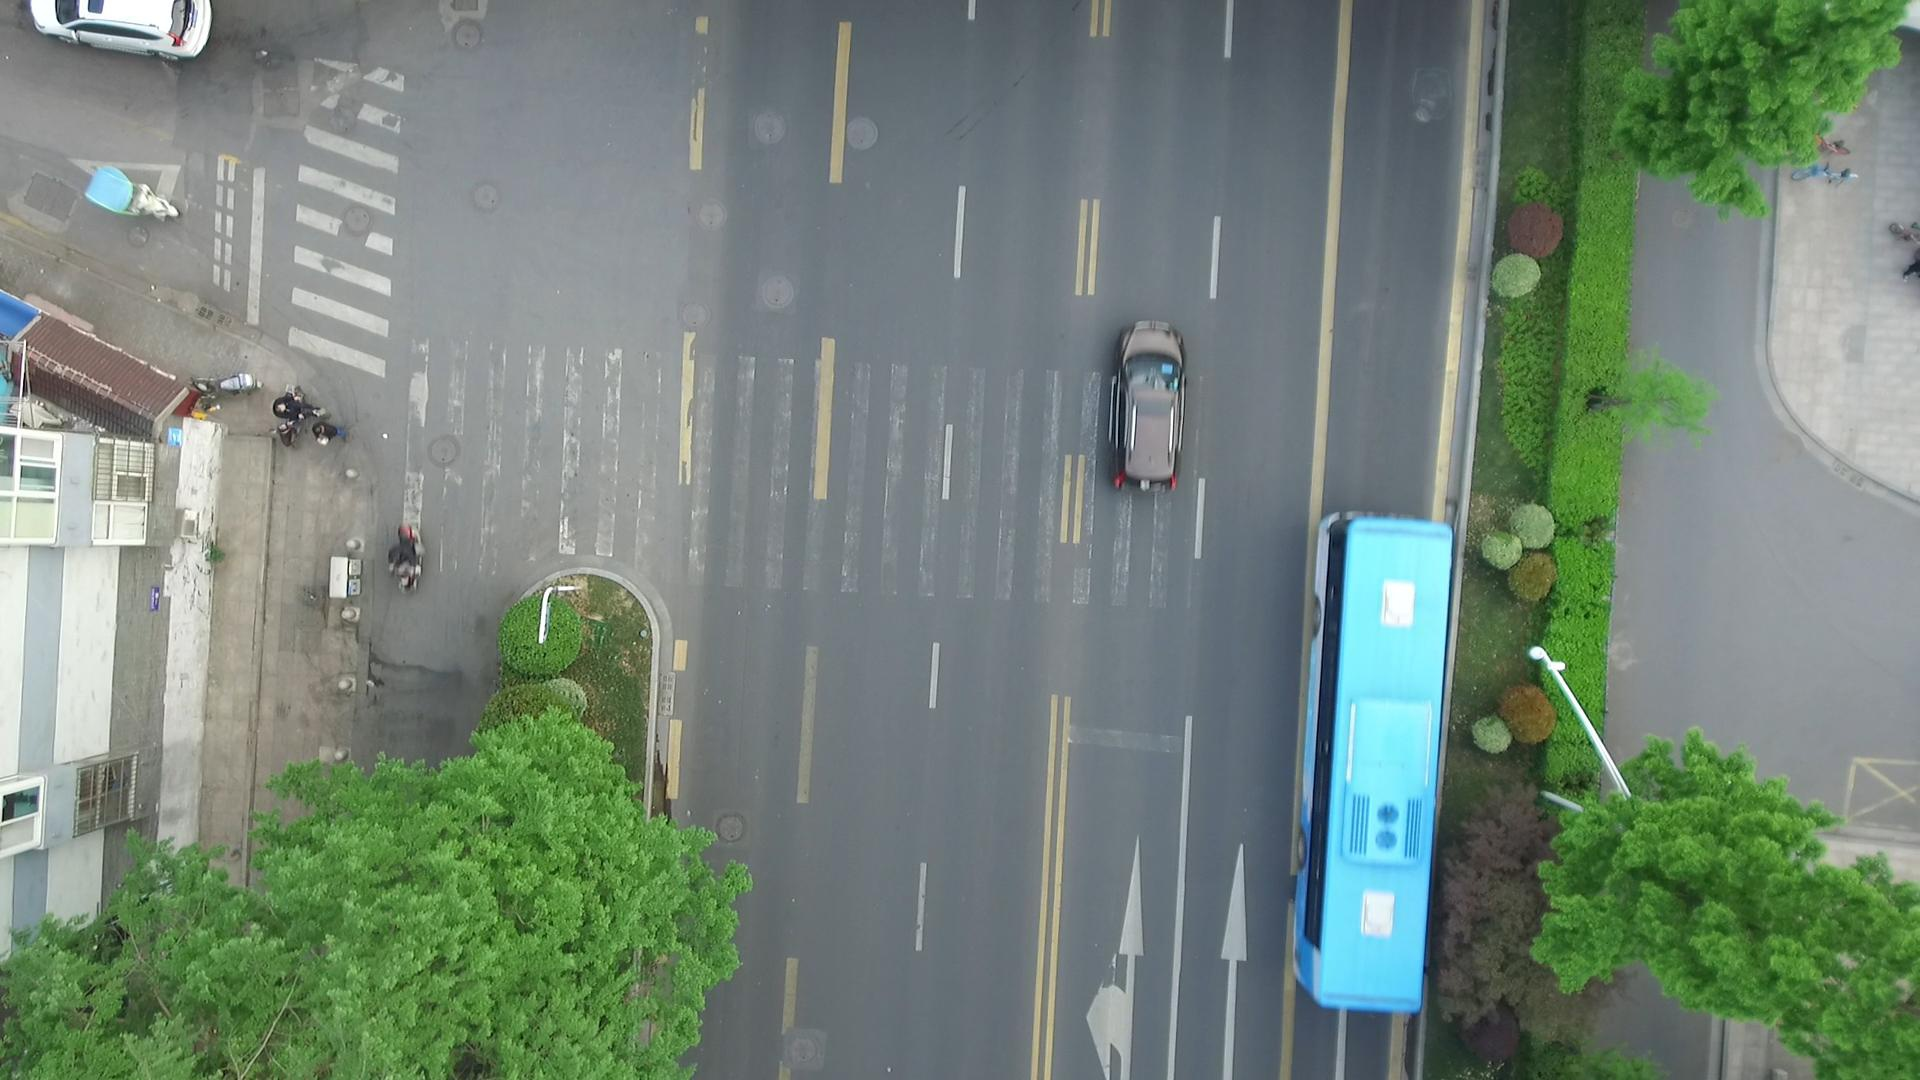Vehicle: (1284, 506, 1458, 1019), (1101, 313, 1192, 498), (20, 1, 219, 73)
